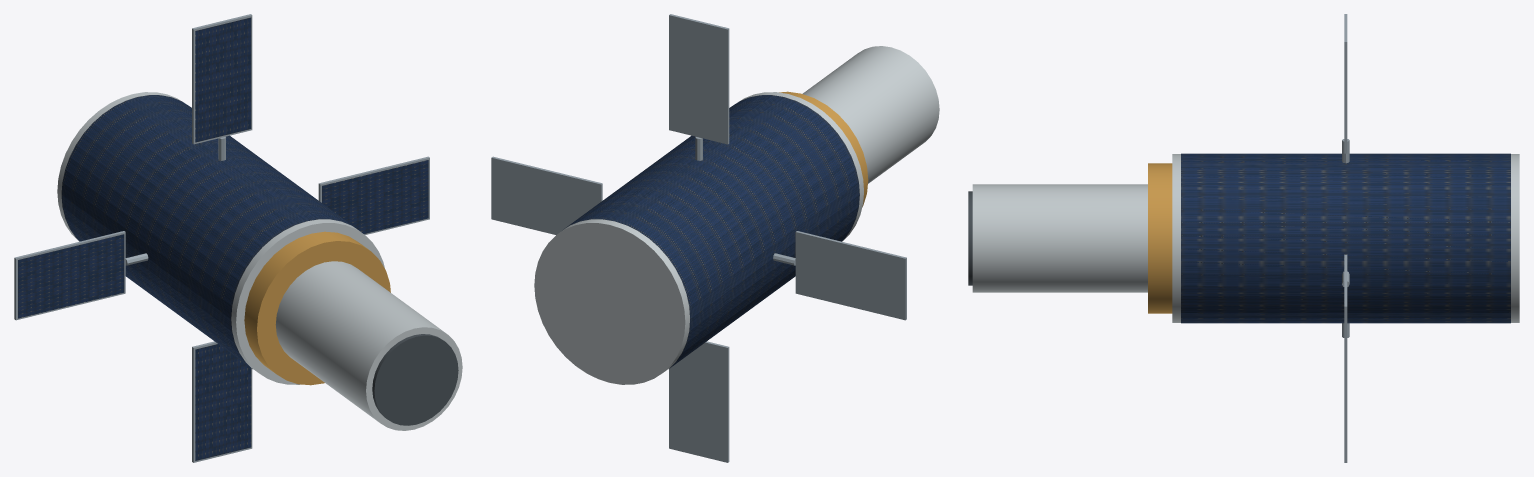
The model's file is ref-dsp-mos-pim-11397.glb.
3 views of the same model, side by side, from view 1: azimuth 30°, elevation 25°; view 2: azimuth 150°, elevation 25°; view 3: azimuth 270°, elevation 25° (orthographic). The views are drawn at different scales.
Visible parts, largest first — view 1: Body-mounted solar cells, Solar cell panel (×4), Optical instrument housing, Despun equipment deck, Telescope aperture, Solar drum core, Radial paddle frame (×4); view 2: Body-mounted solar cells, Radial paddle frame (×4), Solar drum core, Optical instrument housing, Despun equipment deck; view 3: Body-mounted solar cells, Optical instrument housing, Despun equipment deck, Solar drum core, Radial paddle frame.
Boxes of the visible parts, x1,y1,x2,y2 form: Body-mounted solar cells: [61, 95, 357, 368]; Solar cell panel (×4): [18, 17, 428, 460]; Optical instrument housing: [275, 261, 462, 430]; Despun equipment deck: [244, 231, 390, 385]; Telescope aperture: [372, 334, 458, 425]; Solar drum core: [57, 92, 384, 384]; Radial paddle frame (×4): [14, 14, 429, 462]; Body-mounted solar cells: [562, 95, 859, 368]; Radial paddle frame (×4): [491, 14, 906, 462]; Solar drum core: [534, 92, 863, 384]; Optical instrument housing: [802, 46, 939, 183]; Despun equipment deck: [779, 91, 868, 206]; Body-mounted solar cells: [1181, 153, 1510, 323]; Optical instrument housing: [972, 184, 1147, 292]; Despun equipment deck: [1148, 163, 1172, 313]; Solar drum core: [1172, 154, 1519, 322]; Radial paddle frame: [1344, 14, 1347, 153].
Size of the model in its own units: 7.68 by 7.68 by 9.11.
Materials: 5 (1 with a texture image).
